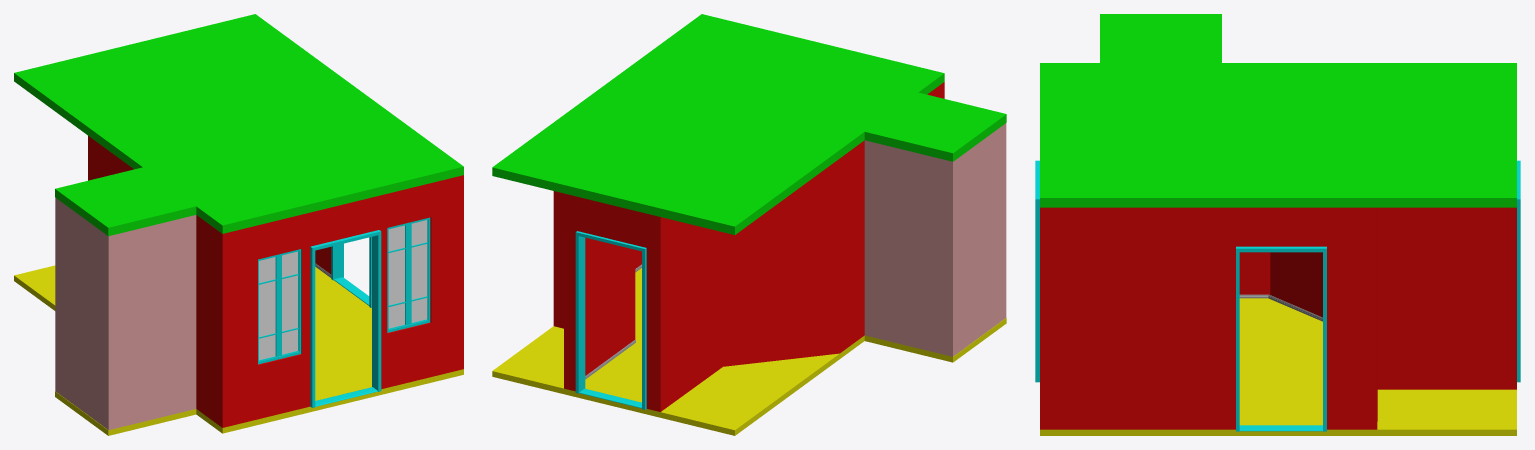
Rendered from FloorPlan505_physics.fbx.
The picture shows the model from 3 angles, left to right: view 1: azimuth 30°, elevation 25°; view 2: azimuth 150°, elevation 25°; view 3: azimuth 270°, elevation 25°; orthographic projection. The views are drawn at different scales.
Parts seen in each view (by area): view 1: FP505:Ceiling_1, FP505:Walls_1, FP505:Walls_2, FP505:Floor_1, FP505:Ceiling_2, FP505:WindowPane_2, FP505:WindowPane_1, FP505:DoorFrame_1, FP505:WindowFrame_2, FP505:WindowFrame_1, FP505:Floor_2, FP505:DoorFrame_2; view 2: FP505:Ceiling_1, FP505:Walls_1, FP505:Walls_2, FP505:Floor_1, FP505:Ceiling_2, FP505:DoorFrame_3, FP505:Floor_2; view 3: FP505:Walls_1, FP505:Ceiling_1, FP505:Floor_1, FP505:Ceiling_2, FP505:DoorFrame_2, FP505:DoorFrame_1, FP505:DoorFrame_3, FP505:Floorboard_2.
Part boxes in pixels (bbox=[...]): FP505:Ceiling_1: bbox=[14, 14, 463, 233]; FP505:Walls_1: bbox=[88, 136, 463, 427]; FP505:Walls_2: bbox=[55, 198, 196, 430]; FP505:Floor_1: bbox=[14, 265, 463, 433]; FP505:Ceiling_2: bbox=[55, 167, 196, 236]; FP505:WindowPane_2: bbox=[388, 220, 427, 328]; FP505:WindowPane_1: bbox=[259, 251, 297, 360]; FP505:DoorFrame_1: bbox=[310, 230, 381, 407]; FP505:WindowFrame_2: bbox=[387, 217, 430, 332]; FP505:WindowFrame_1: bbox=[258, 249, 301, 364]; FP505:Floor_2: bbox=[55, 391, 196, 435]; FP505:DoorFrame_2: bbox=[331, 237, 371, 307]; FP505:Ceiling_1: bbox=[492, 14, 944, 234]; FP505:Walls_1: bbox=[553, 82, 944, 411]; FP505:Walls_2: bbox=[864, 123, 1006, 356]; FP505:Floor_1: bbox=[492, 268, 864, 435]; FP505:Ceiling_2: bbox=[864, 92, 1006, 161]; FP505:DoorFrame_3: bbox=[575, 231, 646, 409]; FP505:Floor_2: bbox=[864, 318, 1006, 362]; FP505:Walls_1: bbox=[1040, 207, 1516, 429]; FP505:Ceiling_1: bbox=[1040, 63, 1516, 207]; FP505:Floor_1: bbox=[1040, 298, 1516, 435]; FP505:Ceiling_2: bbox=[1100, 14, 1221, 62]; FP505:DoorFrame_2: bbox=[1236, 246, 1326, 431]; FP505:DoorFrame_1: bbox=[1035, 160, 1039, 382]; FP505:DoorFrame_3: bbox=[1517, 160, 1520, 382]; FP505:Floorboard_2: bbox=[1239, 425, 1322, 431].
Size of the model in its own units: 449 by 268 by 495.
